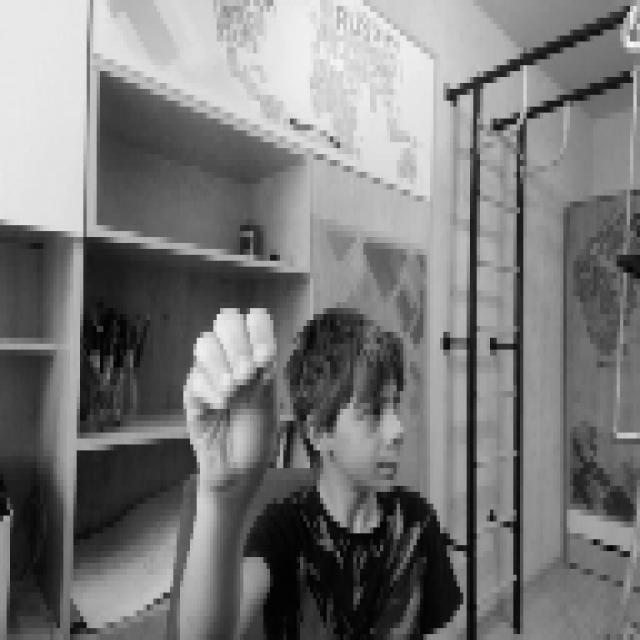left_click: (173, 296, 277, 486)
